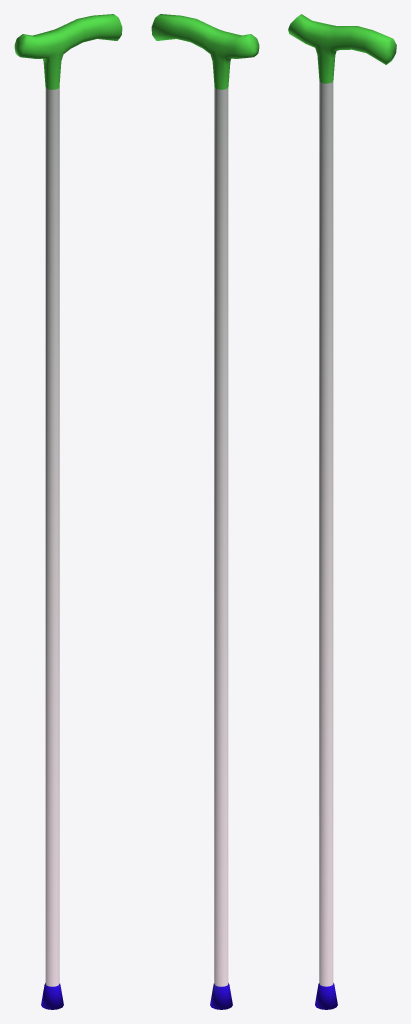
File: Cane_T.fbx
3 views of the same model, side by side, from view 1: azimuth 30°, elevation 25°; view 2: azimuth 150°, elevation 25°; view 3: azimuth 330°, elevation 25° (orthographic).
Visible parts, largest first — view 1: Cylinder; view 2: Cylinder; view 3: Cylinder.
Part boxes in pixels (x1,y1,x2,y2): Cylinder: [14, 14, 122, 1009]; Cylinder: [151, 14, 259, 1009]; Cylinder: [288, 14, 396, 1009].
Size of the model in its own units: 9.83 by 92.64 by 1.97.
